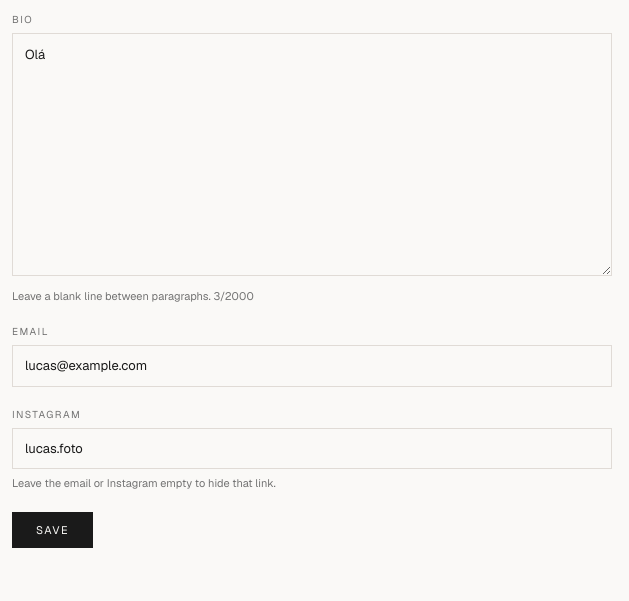
ProfileForm › keeps the typed values and shows the error when saving fails
Replace the text in the field labelled "Email" with "lucas@example" at [312, 366], box [12,345,612,387]
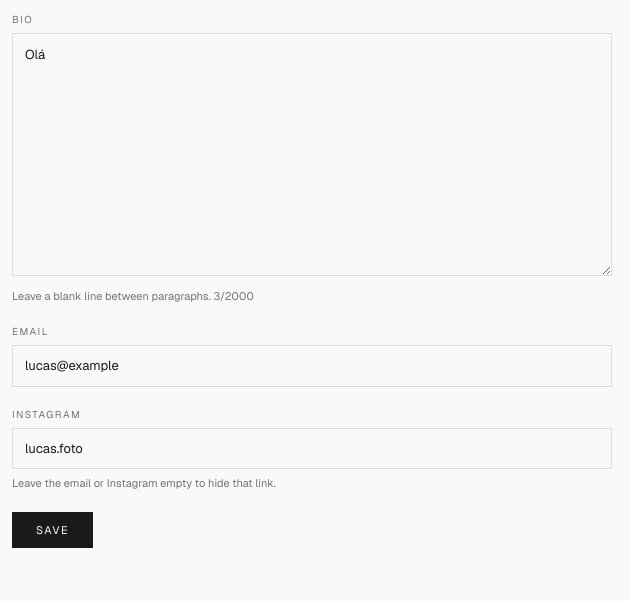
Click the button "Save".
click(53, 530)  # box [12,512,93,548]
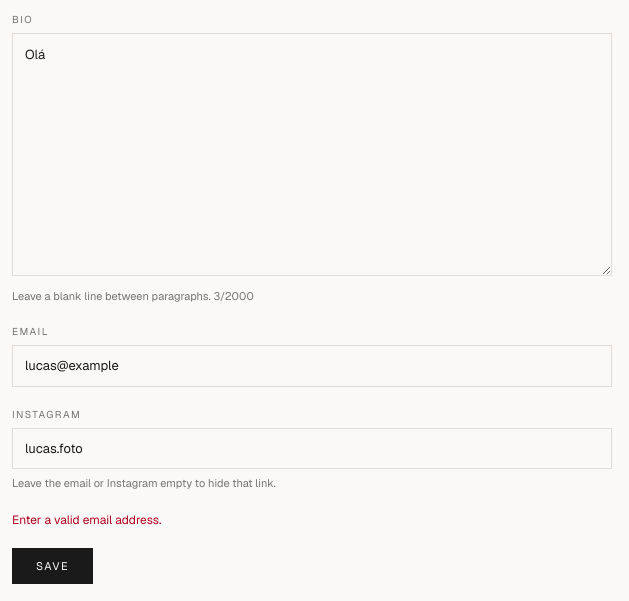
Expected: the text "Enter a valid email address." is shown, [12,512,162,528]
